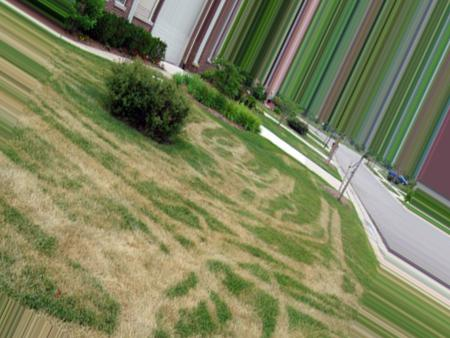patch: (44, 104, 138, 334), (152, 152, 249, 338), (259, 211, 346, 302)
